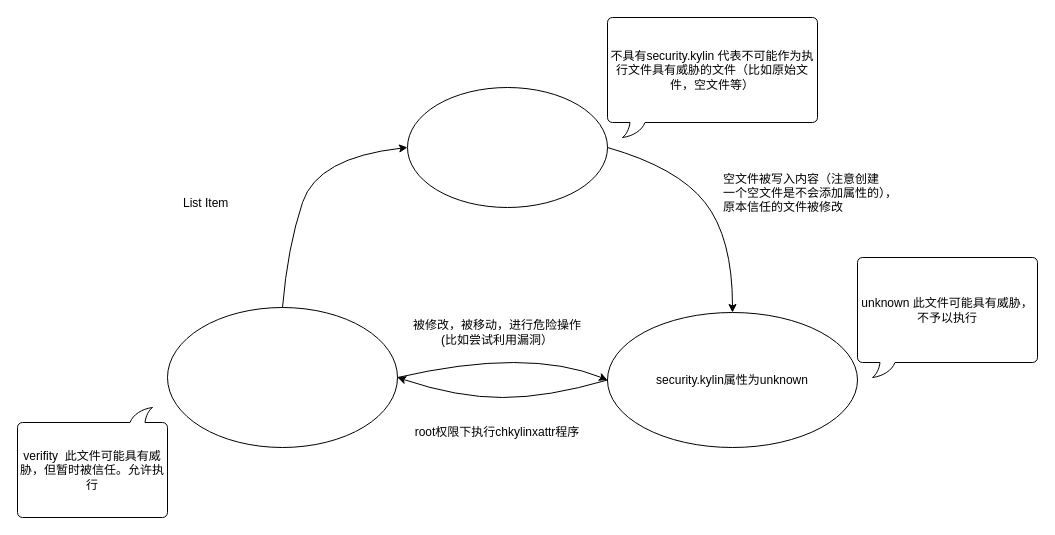
The diagram is 1055 pixels wide and 535 high, and some of its shapes have lost their labels. The centre of each missing label's shape, as x and y in pixels:
"security.kylin属性为verified" goes at (282,377).
"不含有security.kylin属性" goes at (507,147).
